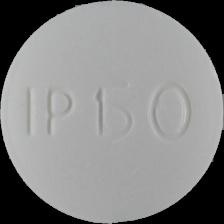12634-498: (0, 0, 224, 224)
